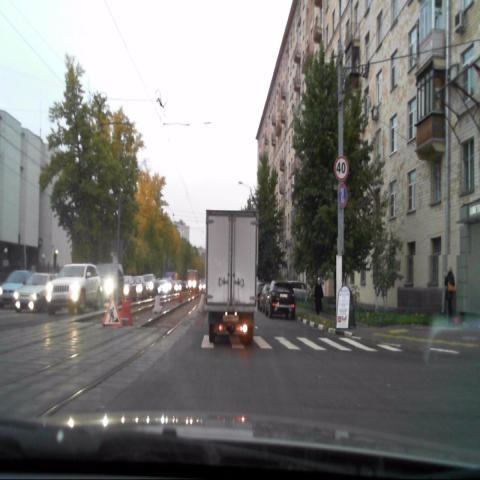1_25: (102, 295, 122, 327)
3_24: (334, 157, 348, 181)
3_30: (338, 183, 348, 207)
